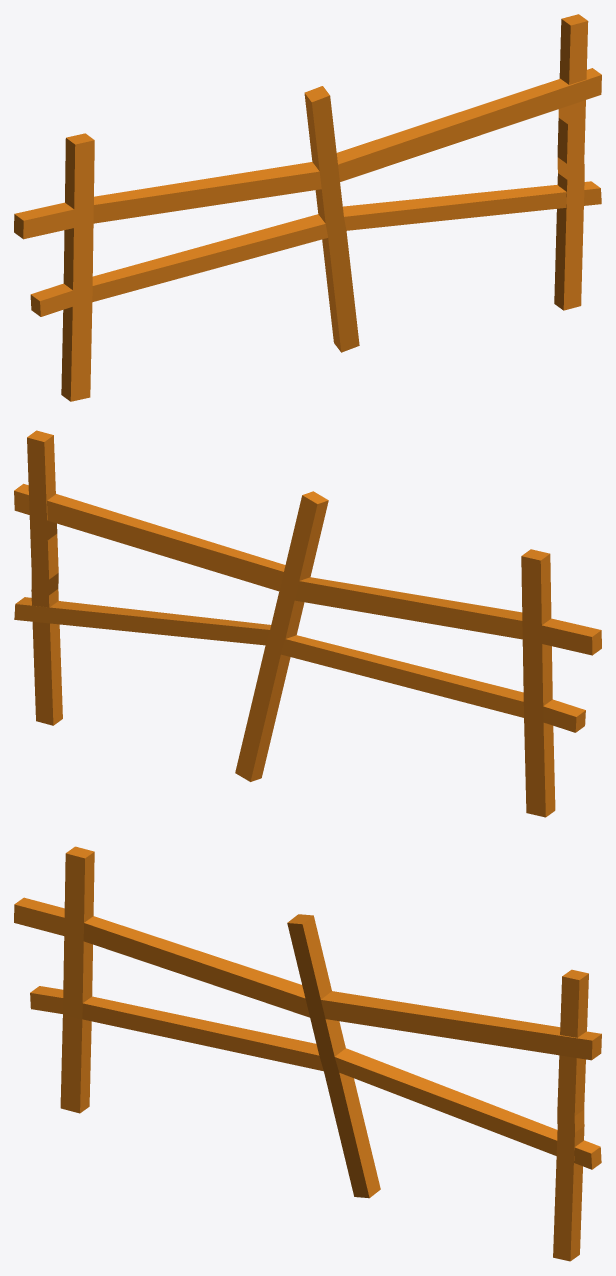
Rendered from wooden_fence2.fbx.
3 renders of one model, top to bottom at view 1: azimuth 30°, elevation 25°; view 2: azimuth 150°, elevation 25°; view 3: azimuth 330°, elevation 25°, orthographic.
Parts seen in each view (by area): view 1: Wooden_fence; view 2: Wooden_fence; view 3: Wooden_fence.
Boxes of the visible parts, x1,y1,x2,y2 form: Wooden_fence: (14,14,601,401); Wooden_fence: (14,430,601,817); Wooden_fence: (14,846,601,1261).
Size of the model in its own units: 862 by 406 by 76.28.
